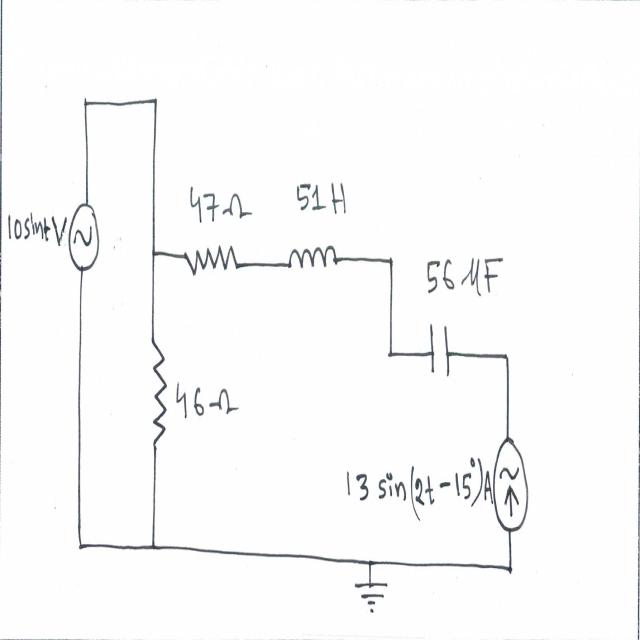ac_current: (67, 192, 100, 280)
capacitor: (428, 318, 452, 381)
current_source: (491, 434, 531, 541)
ground: (353, 578, 389, 616)
inductor: (285, 231, 339, 284)
resistor: (181, 235, 242, 287), (146, 327, 170, 459)
